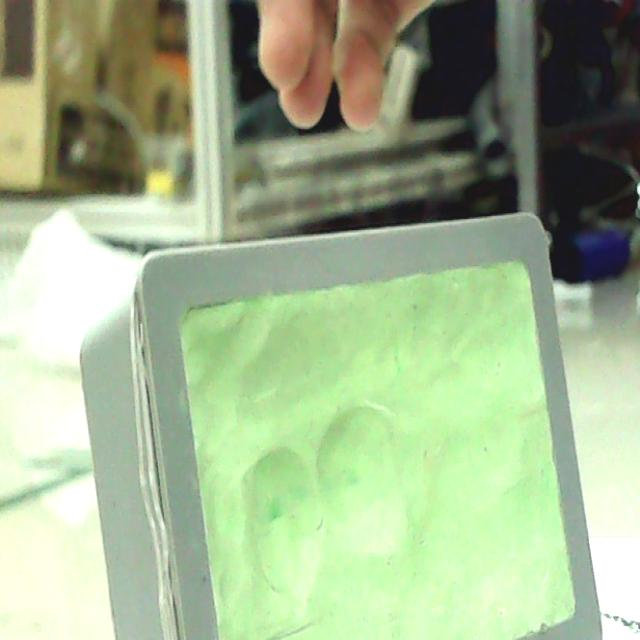block: (78, 216, 598, 640)
